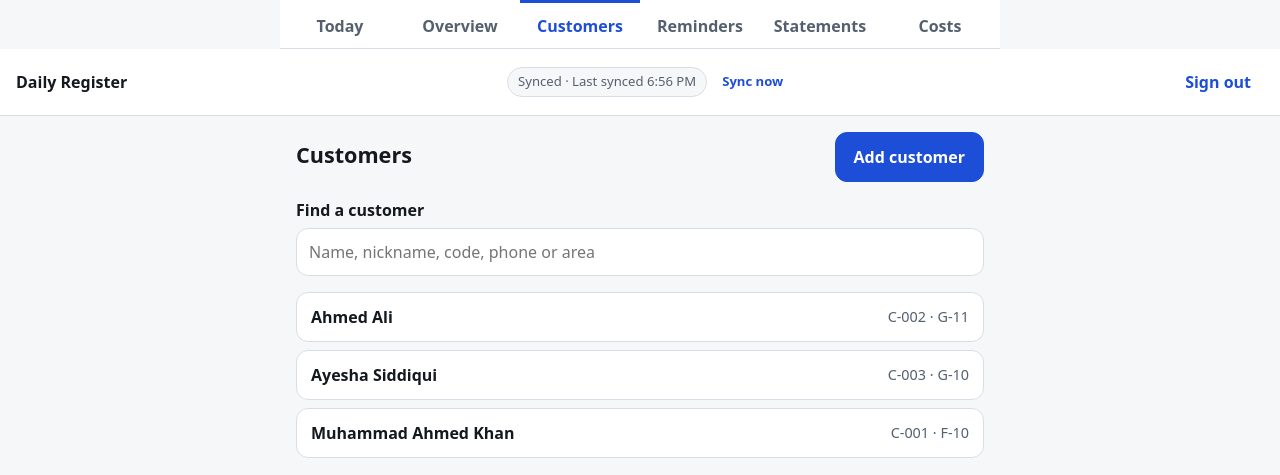
Scenario: searching from the customer list › asks the server, and renders what it returned
expect the text "Ayesha Siddiqui" is shown: met, box left=311, top=363, right=437, bottom=387
In the search field labelled "Find a customer": (640, 252) left=296, top=228, right=984, bottom=276, type "Ahmed bhai"
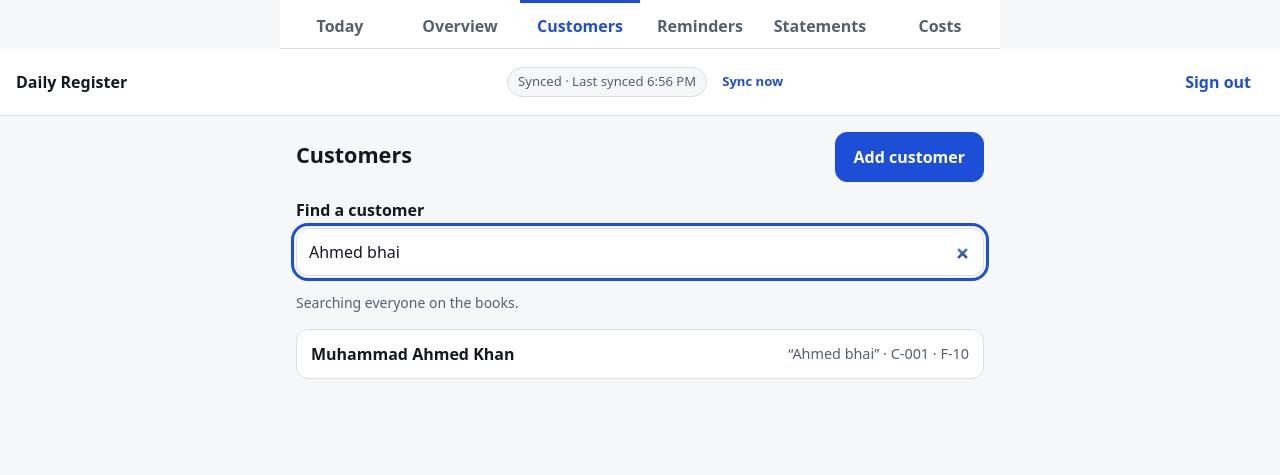
expect the text "Muhammad Ahmed Khan" is shown: met, box left=311, top=342, right=514, bottom=366
expect the text "Searching everyone on the books." is shown: met, box left=296, top=293, right=518, bottom=312
